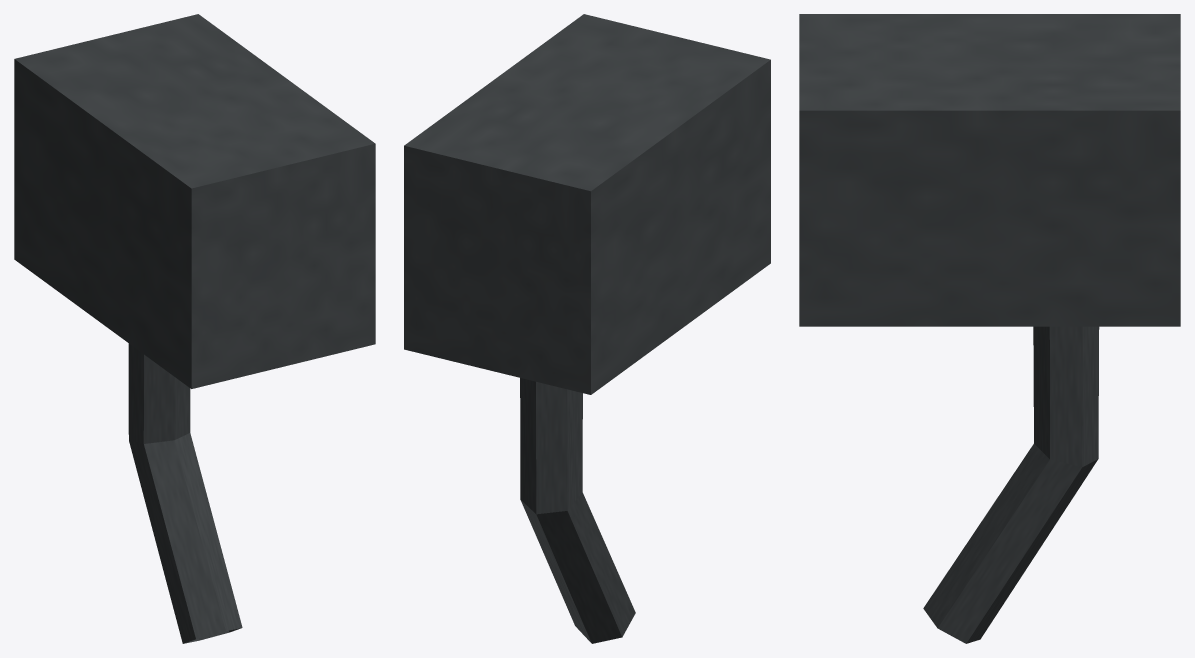
File: body.obj
3 views of the same model, side by side, from view 1: azimuth 30°, elevation 25°; view 2: azimuth 150°, elevation 25°; view 3: azimuth 270°, elevation 25° (orthographic). The views are drawn at different scales.
Bounding box in the file's own units: 0.24 × 0.668 × 0.4.
